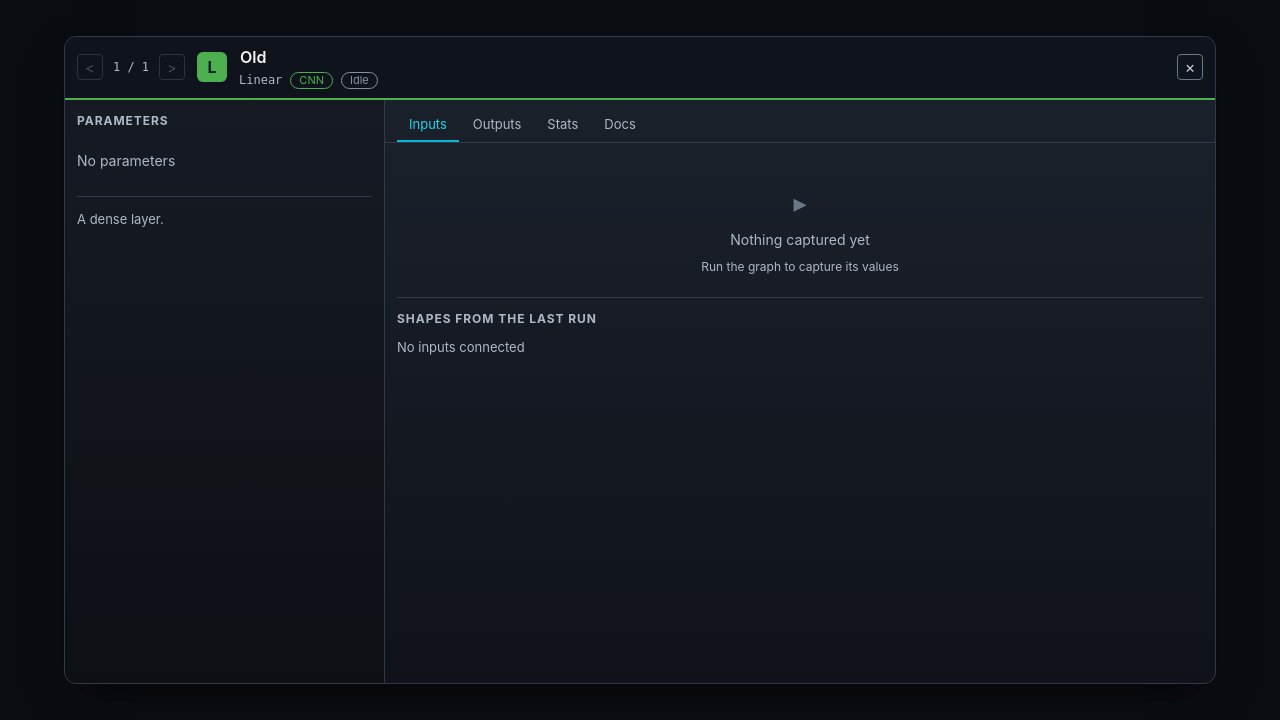
Scenario: NodeDetailModal — header › surfaces the commit/cancel keys only while the name editor is open
Expected: the text "Enter to apply, Esc to cancel" is not shown
Step 1. Click the button "Old" → (253, 57), box [234, 45, 272, 69]
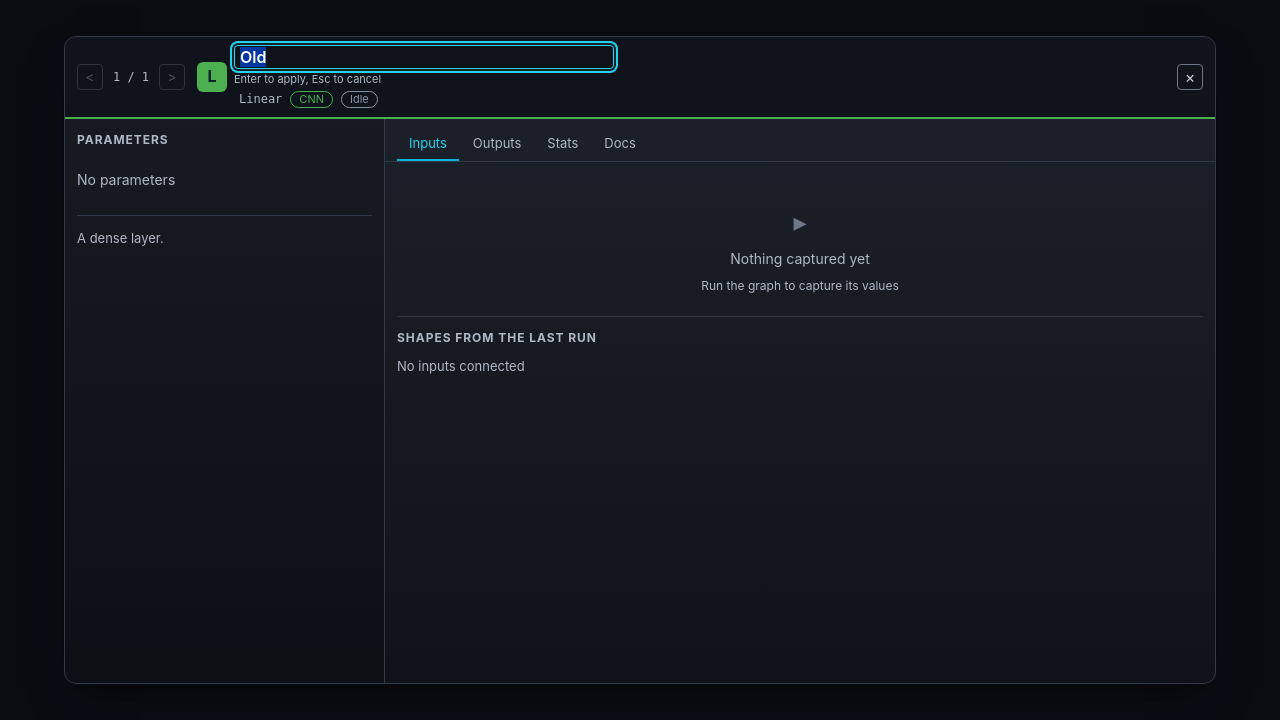
Expected: the text "Enter to apply, Esc to cancel" is shown, [234, 72, 381, 86]
